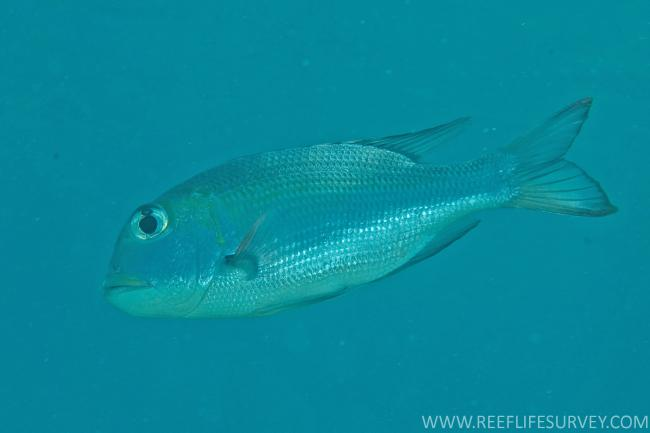fish: (102, 99, 620, 318)
